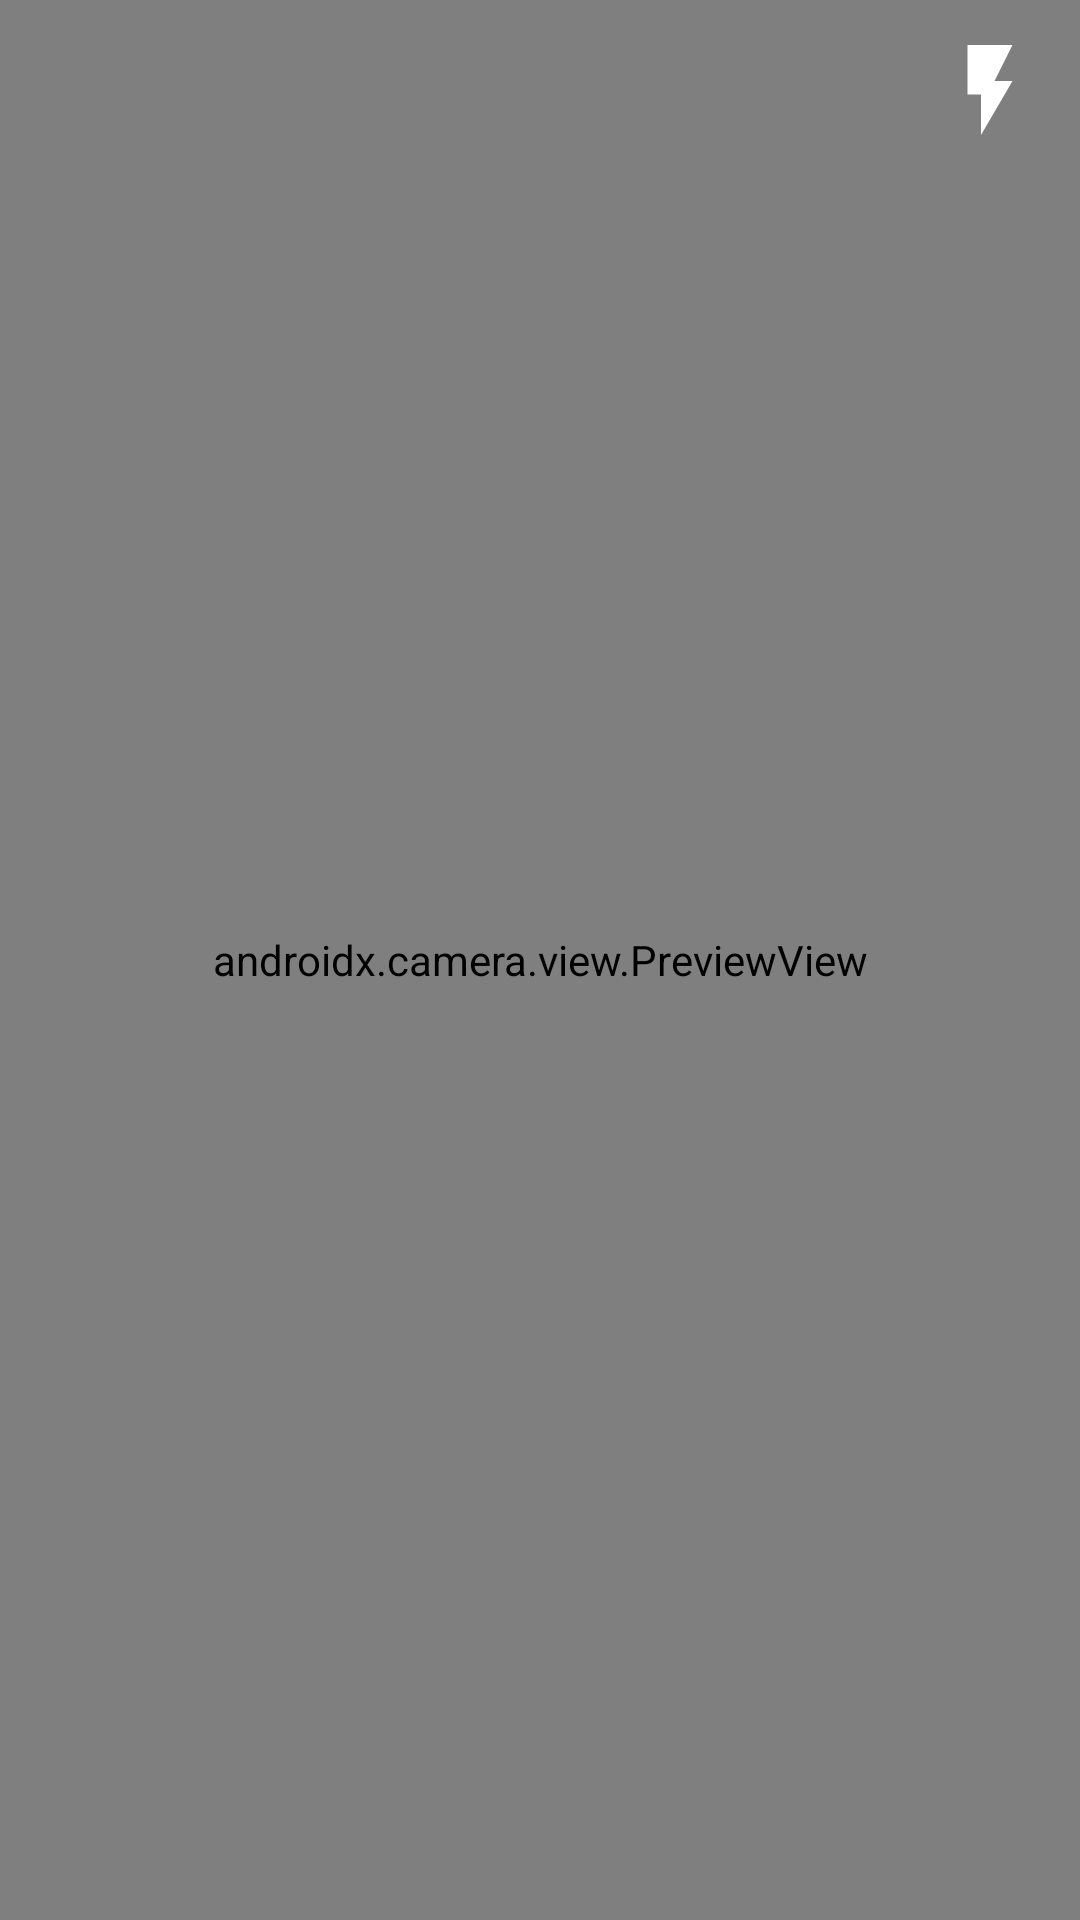

Icon bounding boxes for this 1080 × 1920 phone screenshot, format (x1, y1, x2, y2):
flash: (967, 45, 1013, 135)
